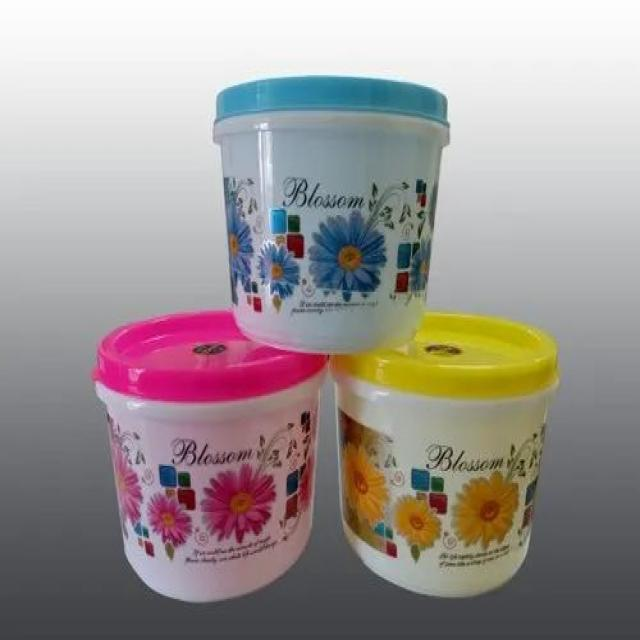plastic_box: (313, 304, 540, 597), (182, 80, 426, 334), (86, 335, 321, 593)
